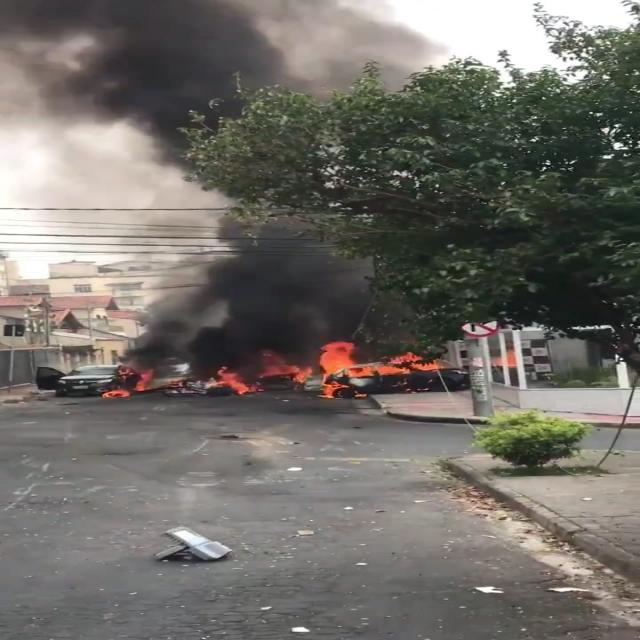Fire: (321, 340, 436, 398), (100, 368, 154, 399), (210, 368, 256, 395)
